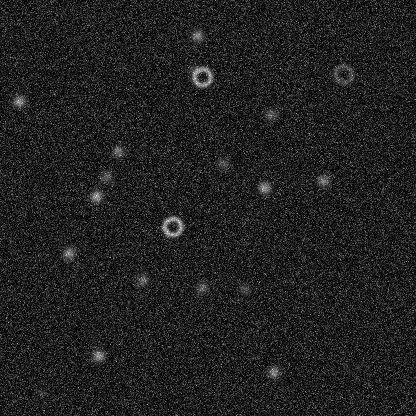Ring: (190, 64, 214, 88), (160, 214, 184, 238), (331, 61, 355, 85)
Spot: (11, 93, 27, 109), (214, 155, 230, 171), (90, 347, 106, 363), (183, 60, 199, 76), (109, 143, 125, 159), (236, 281, 252, 297), (98, 168, 114, 184), (262, 106, 278, 122), (134, 271, 150, 287), (189, 27, 205, 43), (256, 179, 272, 195), (32, 384, 48, 400), (265, 364, 281, 380), (193, 279, 209, 295), (60, 245, 76, 261), (315, 172, 331, 188), (88, 188, 104, 204)
